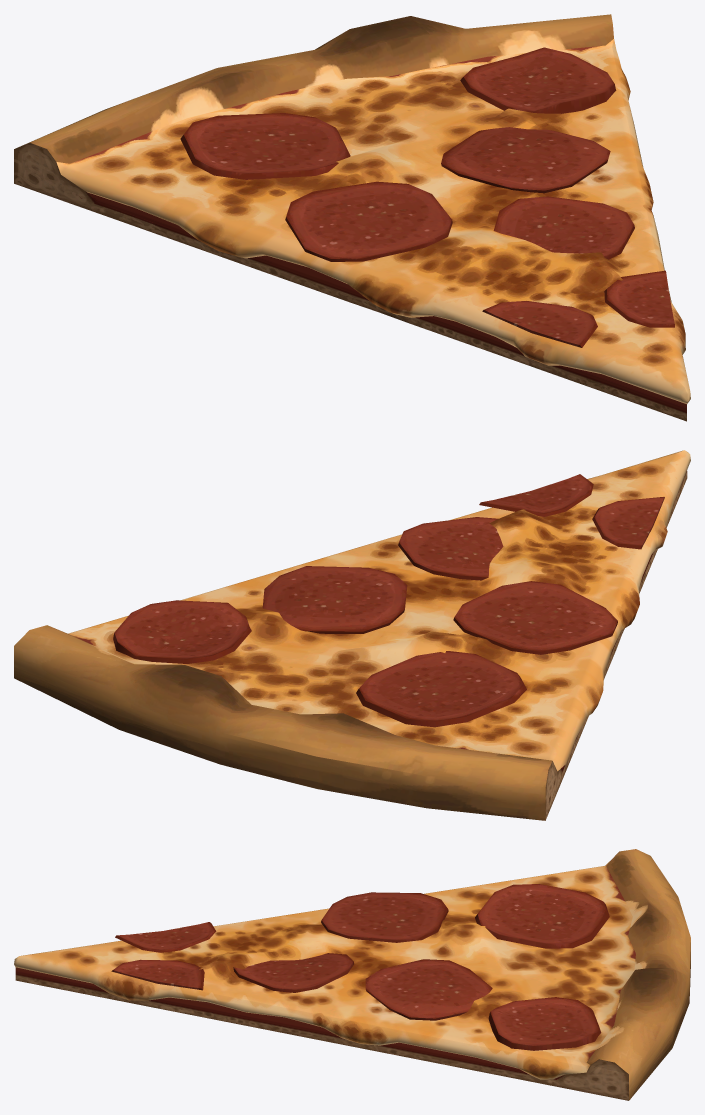
File: pip pizza.glb
3 views of the same model, one above another, from view 1: azimuth 30°, elevation 25°; view 2: azimuth 150°, elevation 25°; view 3: azimuth 270°, elevation 25° (orthographic). The views are drawn at different scales.
Parts seen in each view (by area): view 1: pizza_pepperoni_slice_whole; view 2: pizza_pepperoni_slice_whole; view 3: pizza_pepperoni_slice_whole.
Boxes of the visible parts, x1,y1,x2,y2 form: pizza_pepperoni_slice_whole: (14, 14, 690, 421); pizza_pepperoni_slice_whole: (14, 450, 690, 820); pizza_pepperoni_slice_whole: (14, 849, 690, 1100).
Bounding box in the file's own units: 0.1765 × 0.0179 × 0.231.
1 material, 1 textured.
